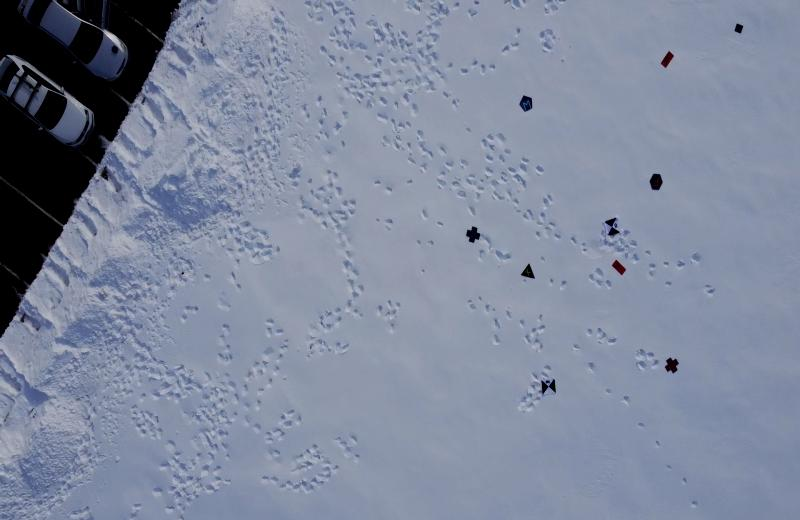Cross: (664, 356, 680, 374), (465, 226, 481, 244)
Hexagon: (648, 172, 664, 191)
Pentagon: (518, 94, 535, 114)
Rectangle: (611, 258, 627, 278), (659, 51, 675, 67)
Square: (732, 20, 744, 34)
Triangle: (520, 263, 536, 283)
